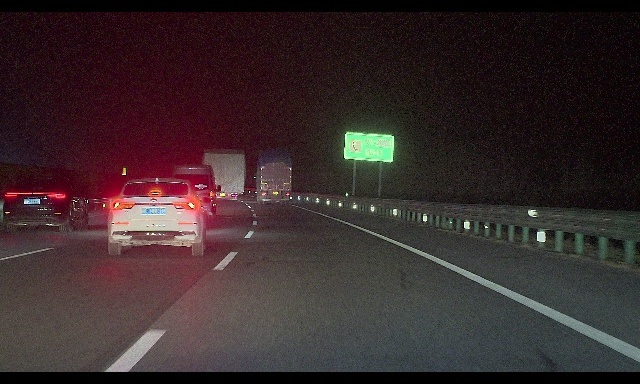car: (107, 177, 211, 256), (3, 170, 89, 233), (171, 164, 221, 221)
truck: (197, 148, 246, 201), (253, 143, 292, 205)
